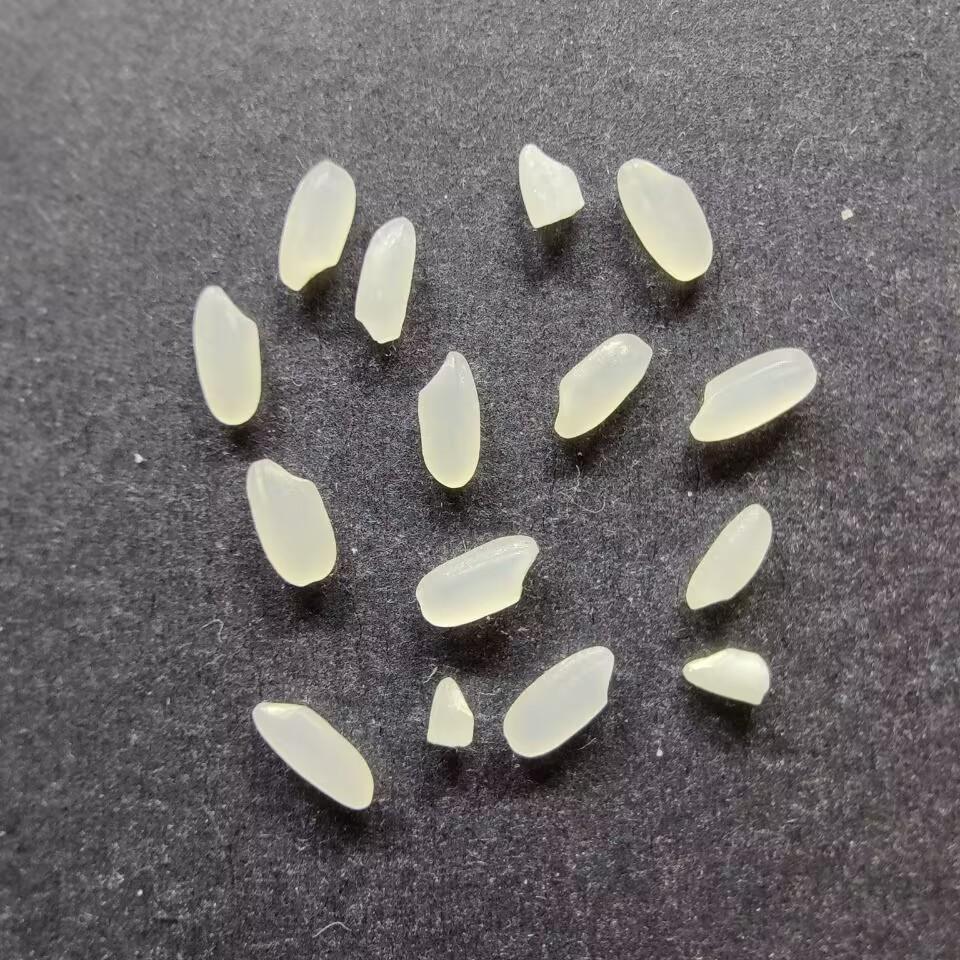broken: (518, 142, 585, 230), (680, 647, 771, 705), (425, 676, 475, 747)
rice: (251, 701, 373, 812), (502, 645, 614, 758), (688, 348, 817, 442), (615, 158, 713, 281), (414, 534, 539, 628), (245, 458, 336, 586), (552, 333, 654, 439), (277, 160, 354, 292), (192, 285, 261, 425), (685, 502, 772, 610), (416, 350, 481, 489), (353, 216, 415, 344)
